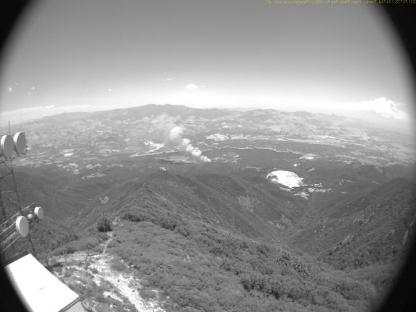smoke: (148, 112, 214, 162)
